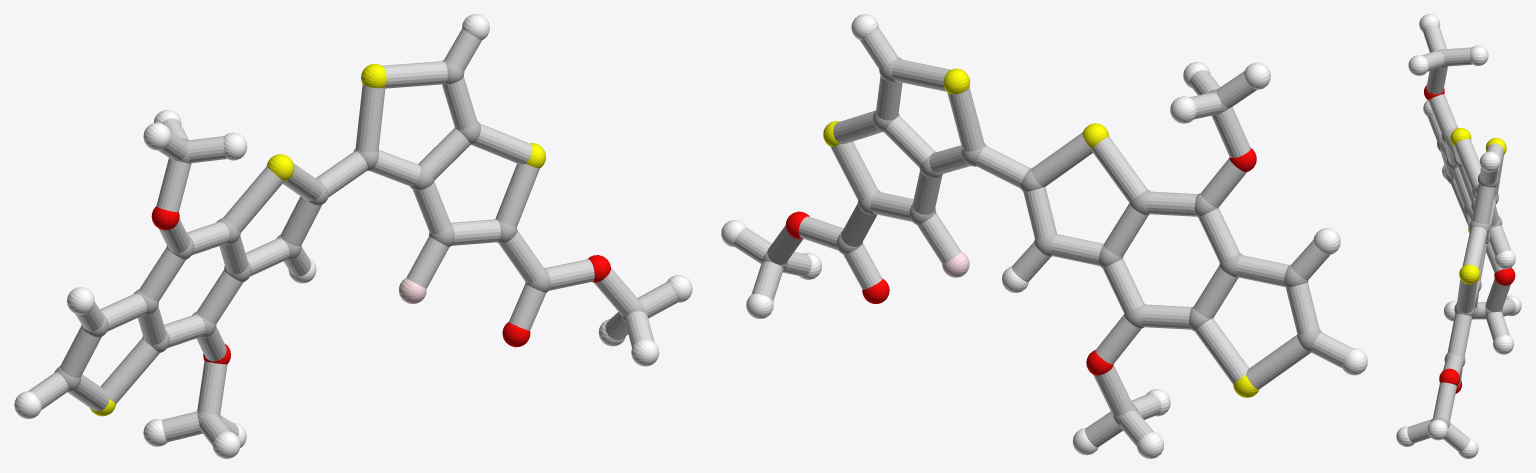
The model's file is color.glb.
3 renders of one model, left to right at view 1: azimuth 30°, elevation 25°; view 2: azimuth 150°, elevation 25°; view 3: azimuth 270°, elevation 25°, orthographic. The views are drawn at different scales.
Parts seen in each view (by area): view 1: grp15205, grp8689, grp1, grp13395, grp7241; view 2: grp15205, grp8689, grp1, grp7241, grp13395; view 3: grp15205, grp8689, grp1, grp7241, grp13395.
Part boxes in pixels (x1,y1,x2,y2): grp15205: (28, 29, 677, 445); grp8689: (14, 14, 692, 458); grp1: (54, 59, 646, 433); grp13395: (151, 206, 610, 364); grp7241: (90, 64, 545, 416); grp15205: (734, 28, 1351, 447); grp8689: (721, 14, 1367, 458); grp1: (762, 57, 1321, 425); grp7241: (823, 68, 1259, 397); grp13395: (785, 148, 1256, 375); grp15205: (1407, 25, 1515, 451); grp8689: (1396, 14, 1521, 458); grp1: (1431, 49, 1502, 428); grp7241: (1450, 128, 1506, 284); grp13395: (1424, 85, 1515, 393).
Bounding box in the file's own units: 16.44 × 9.26 × 3.59.
